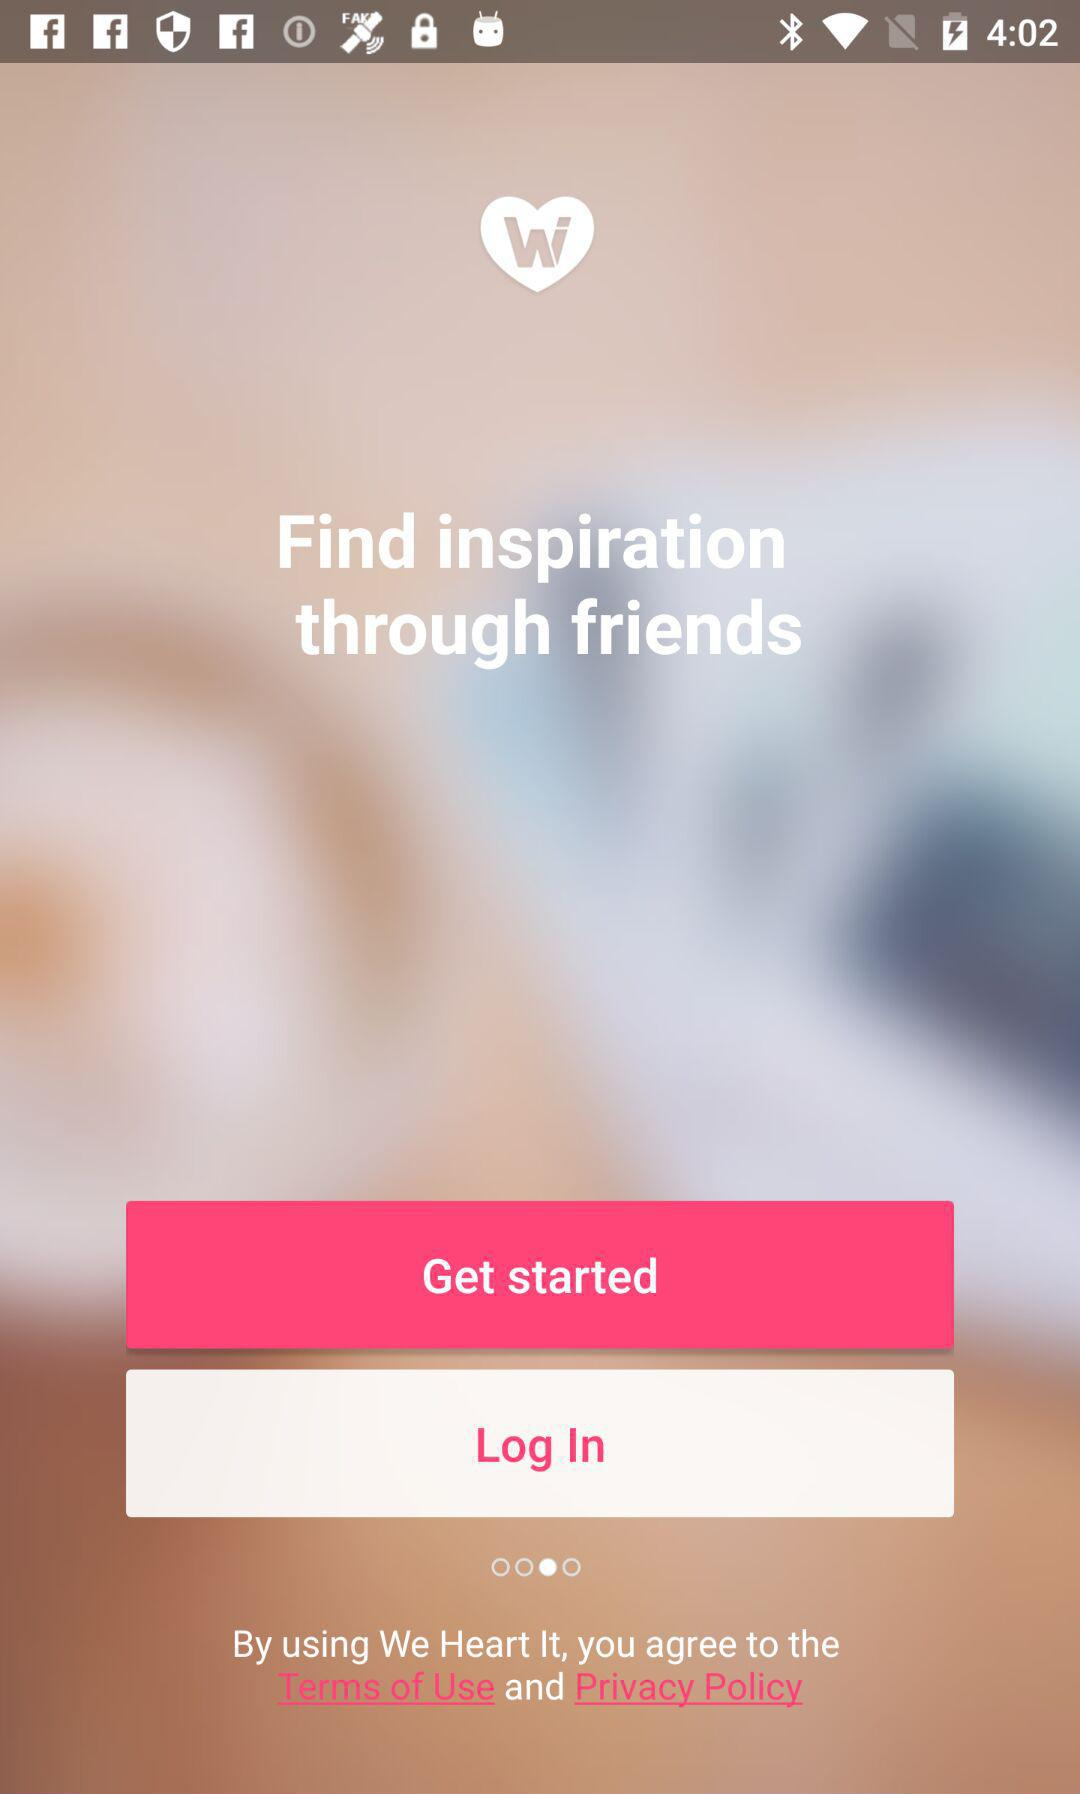Image: (479, 196, 596, 295)
PageIndicator: (489, 1557, 582, 1577)
Text: (279, 511, 805, 671), (234, 1627, 840, 1708)
TextButton: (126, 1199, 954, 1351), (126, 1369, 954, 1518)
UpperTaskBar: (1, 1, 1080, 64)
